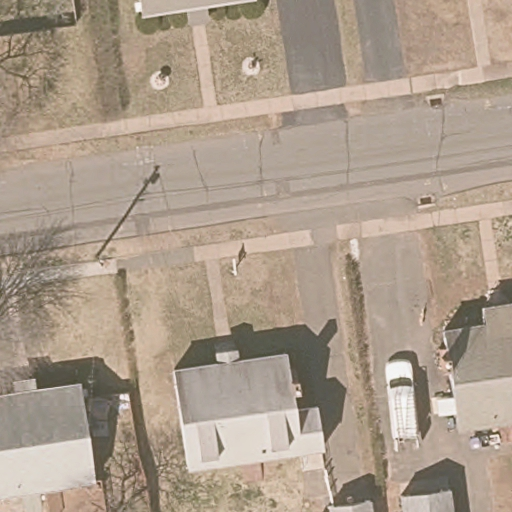DT: (93, 226, 121, 266)
